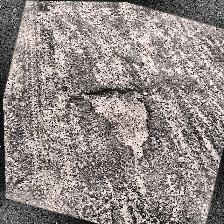pothole: (66, 72, 162, 160)
